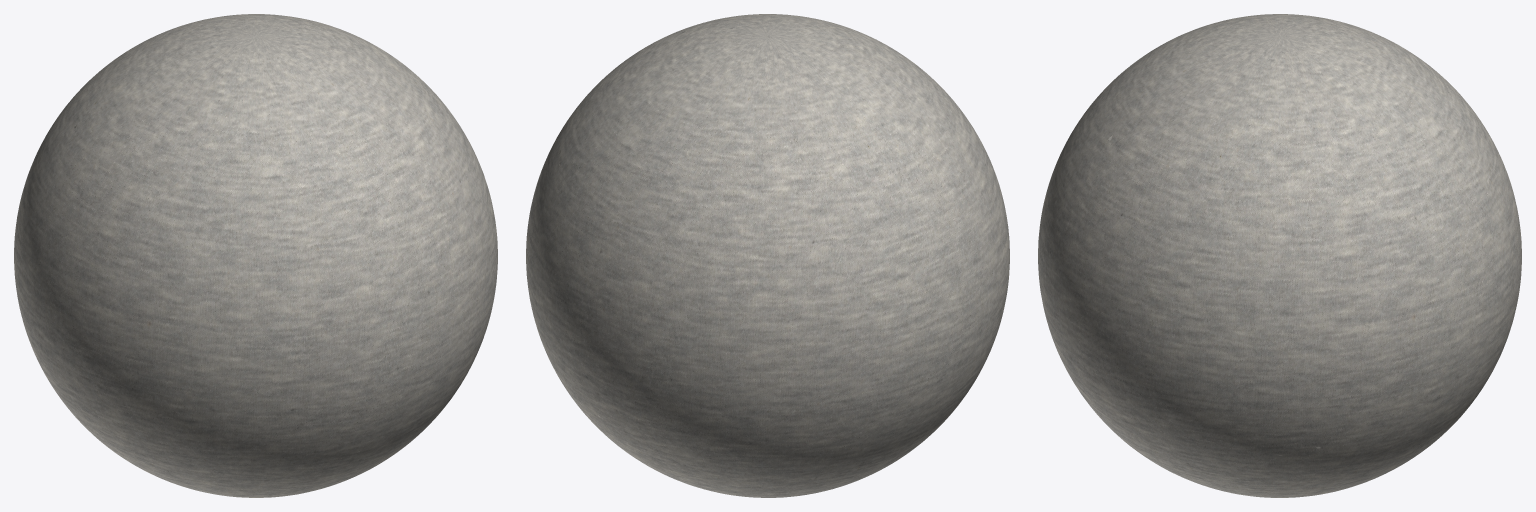
The model's file is jogging_melange_1k.gltf.
3 views of the same model, side by side, from view 1: azimuth 30°, elevation 25°; view 2: azimuth 150°, elevation 25°; view 3: azimuth 270°, elevation 25° (orthographic).
Visible parts, largest first — view 1: sphere_gltf; view 2: sphere_gltf; view 3: sphere_gltf.
Part boxes in pixels (x1,y1,x2,y2): sphere_gltf: (14, 14, 497, 497); sphere_gltf: (526, 14, 1009, 497); sphere_gltf: (1038, 14, 1521, 497).
Bounding box in the file's own units: 0.2733 × 0.2733 × 0.2733.
1 material, 1 textured.
